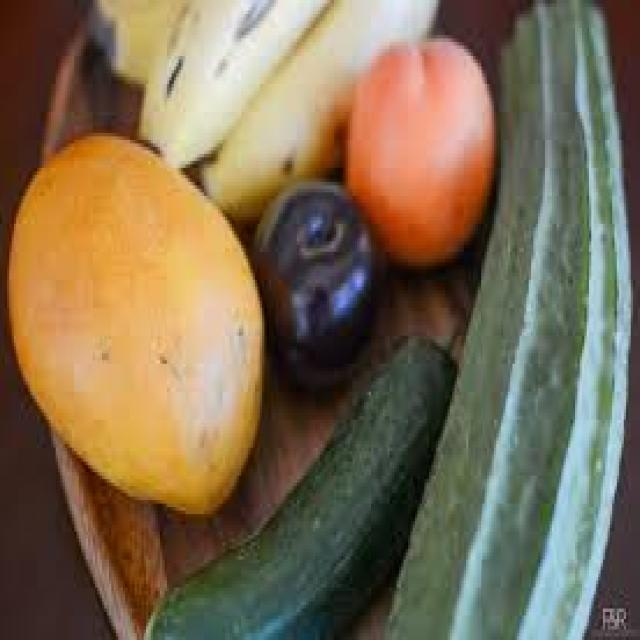Organik: (436, 0, 630, 640), (11, 134, 265, 473), (134, 337, 434, 617), (108, 0, 441, 192), (353, 36, 480, 271), (260, 184, 374, 388)
